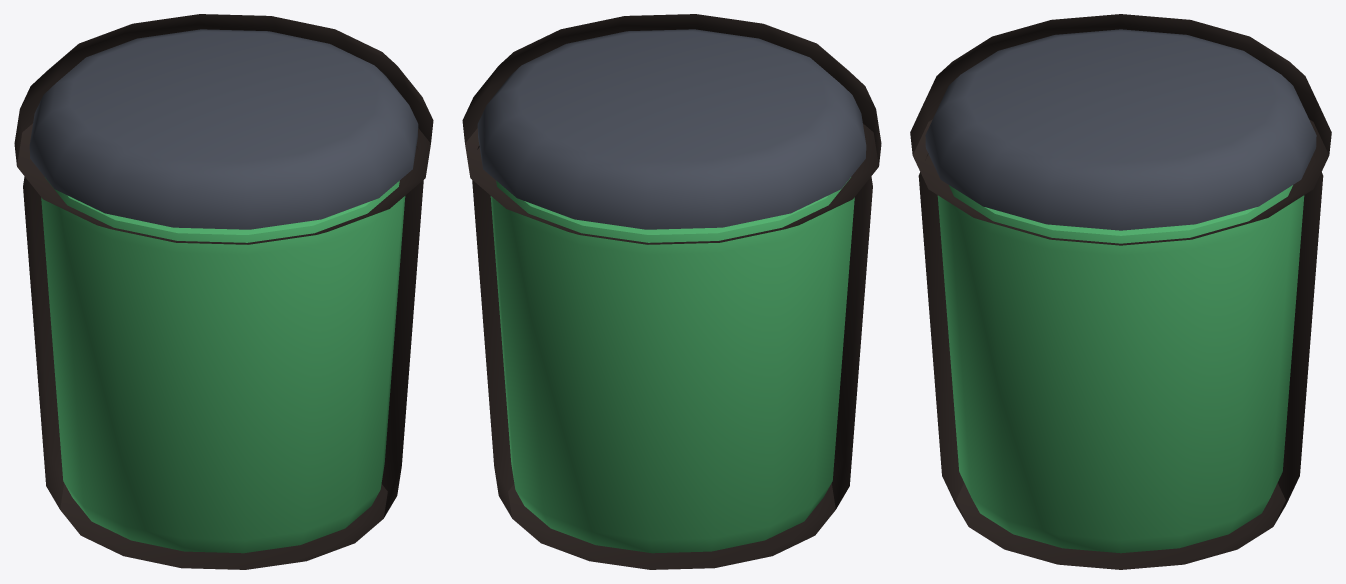
Rendered from TrashBin.fbx.
3 views of the same model, side by side, from view 1: azimuth 30°, elevation 25°; view 2: azimuth 150°, elevation 25°; view 3: azimuth 270°, elevation 25° (orthographic).
Parts seen in each view (by area): view 1: PR_TrashBin_AwningGreen, PR_TrashBin_Metal, PR_TrashBin_Outline; view 2: PR_TrashBin_AwningGreen, PR_TrashBin_Metal, PR_TrashBin_Outline; view 3: PR_TrashBin_AwningGreen, PR_TrashBin_Metal, PR_TrashBin_Outline.
Boxes of the visible parts, left/top/right/bottom form: PR_TrashBin_AwningGreen: left=41, top=177, right=405, bottom=553; PR_TrashBin_Metal: left=29, top=29, right=418, bottom=229; PR_TrashBin_Outline: left=14, top=14, right=433, bottom=569; PR_TrashBin_AwningGreen: left=490, top=177, right=854, bottom=553; PR_TrashBin_Metal: left=477, top=29, right=866, bottom=229; PR_TrashBin_Outline: left=462, top=14, right=881, bottom=569; PR_TrashBin_AwningGreen: left=937, top=185, right=1304, bottom=553; PR_TrashBin_Metal: left=925, top=29, right=1316, bottom=230; PR_TrashBin_Outline: left=910, top=14, right=1331, bottom=569.
Size of the model in its own units: 0.9493 by 1.06 by 0.9493.
